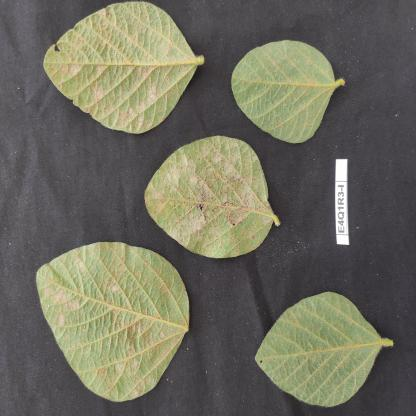label: (328, 158, 360, 256)
leaflets: (34, 240, 197, 407), (35, 0, 202, 135), (251, 281, 404, 414), (145, 128, 286, 269), (221, 26, 352, 146)
